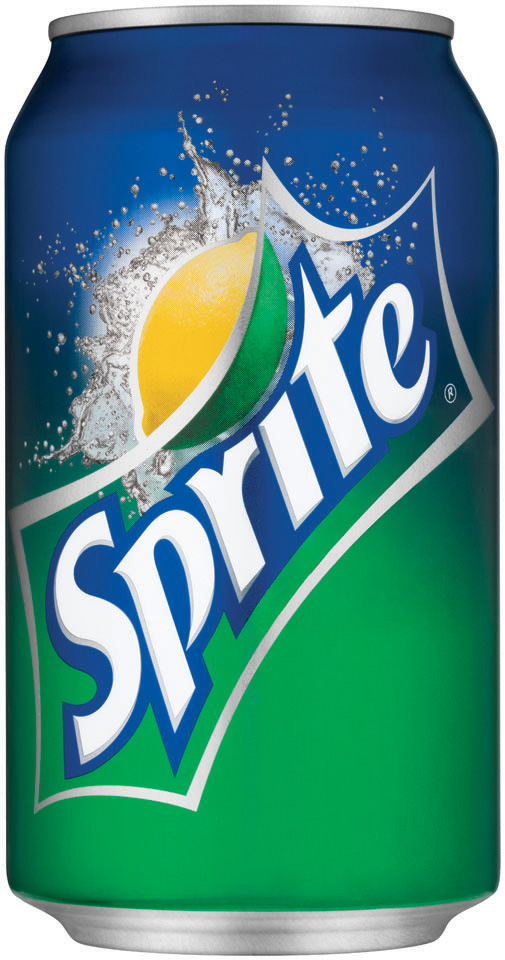sprite: (53, 261, 428, 765)
